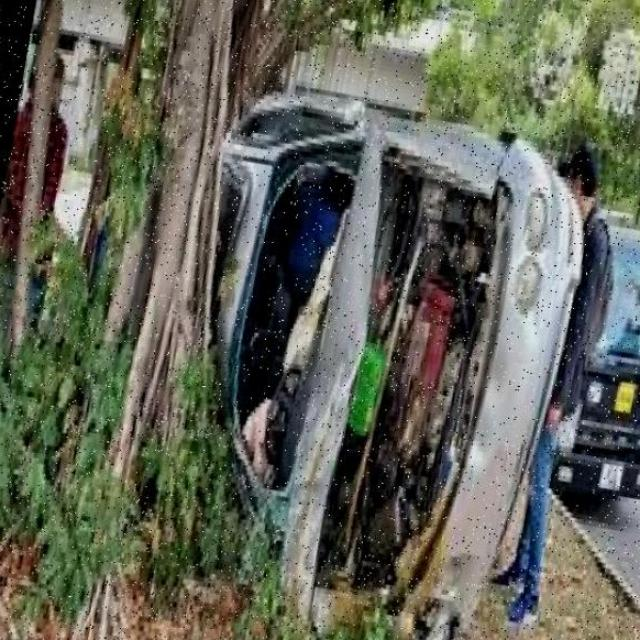accident: (128, 28, 616, 640)
